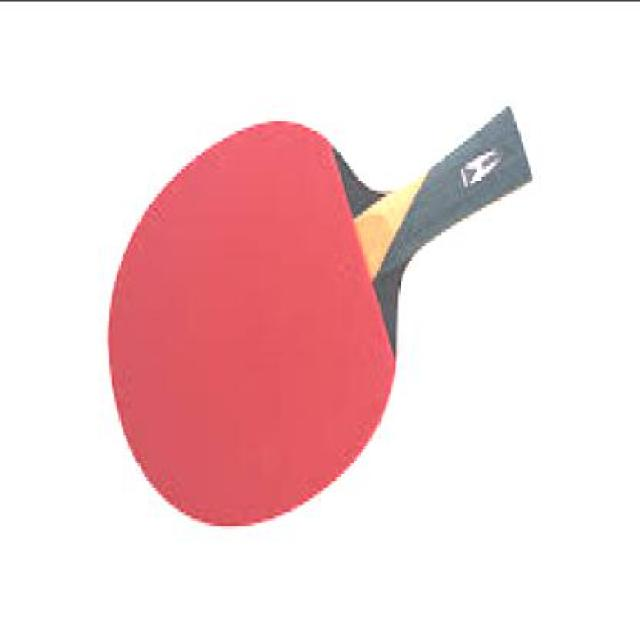table_tennis_racket: (103, 106, 412, 531)
